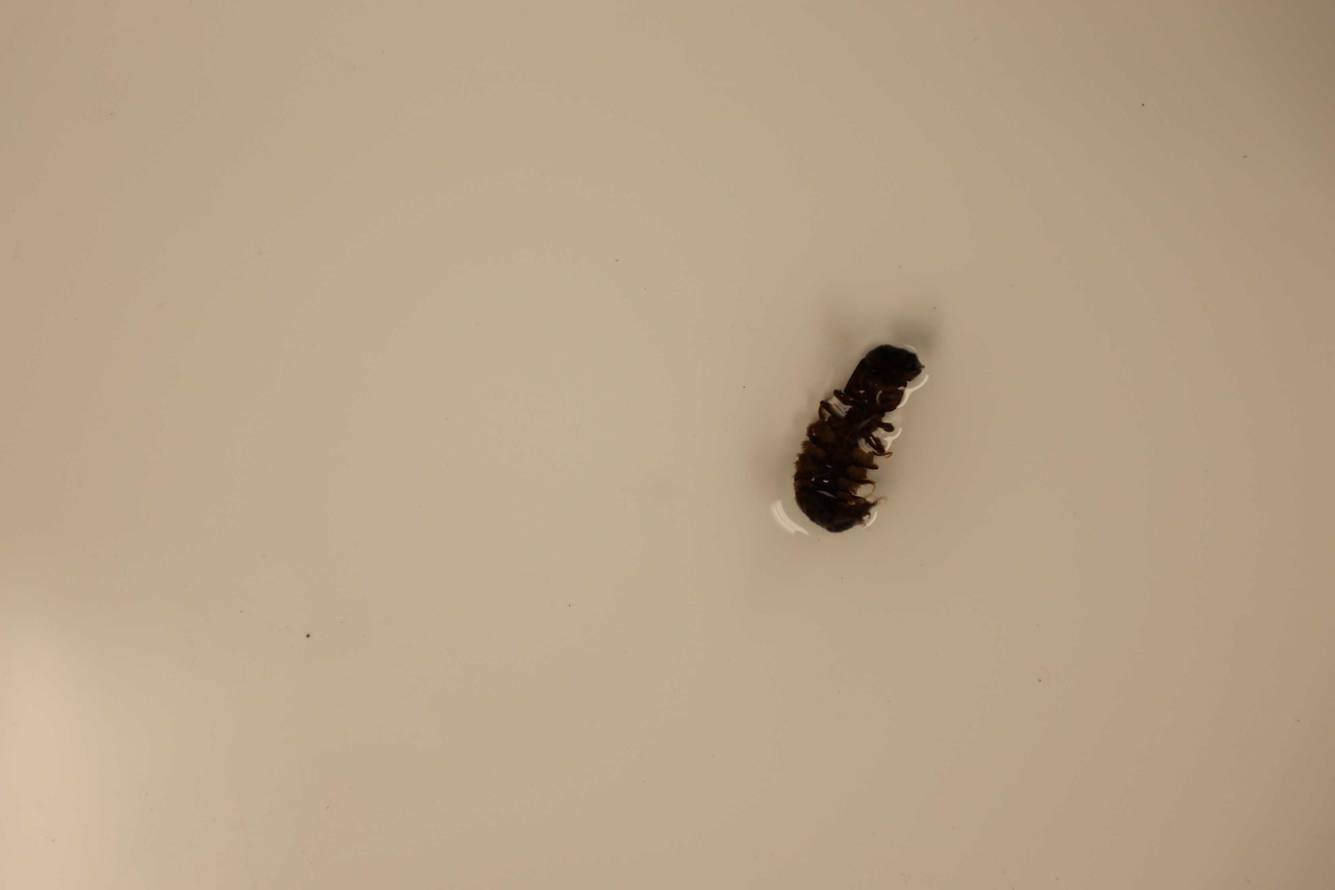Other: (793, 342, 927, 543)
